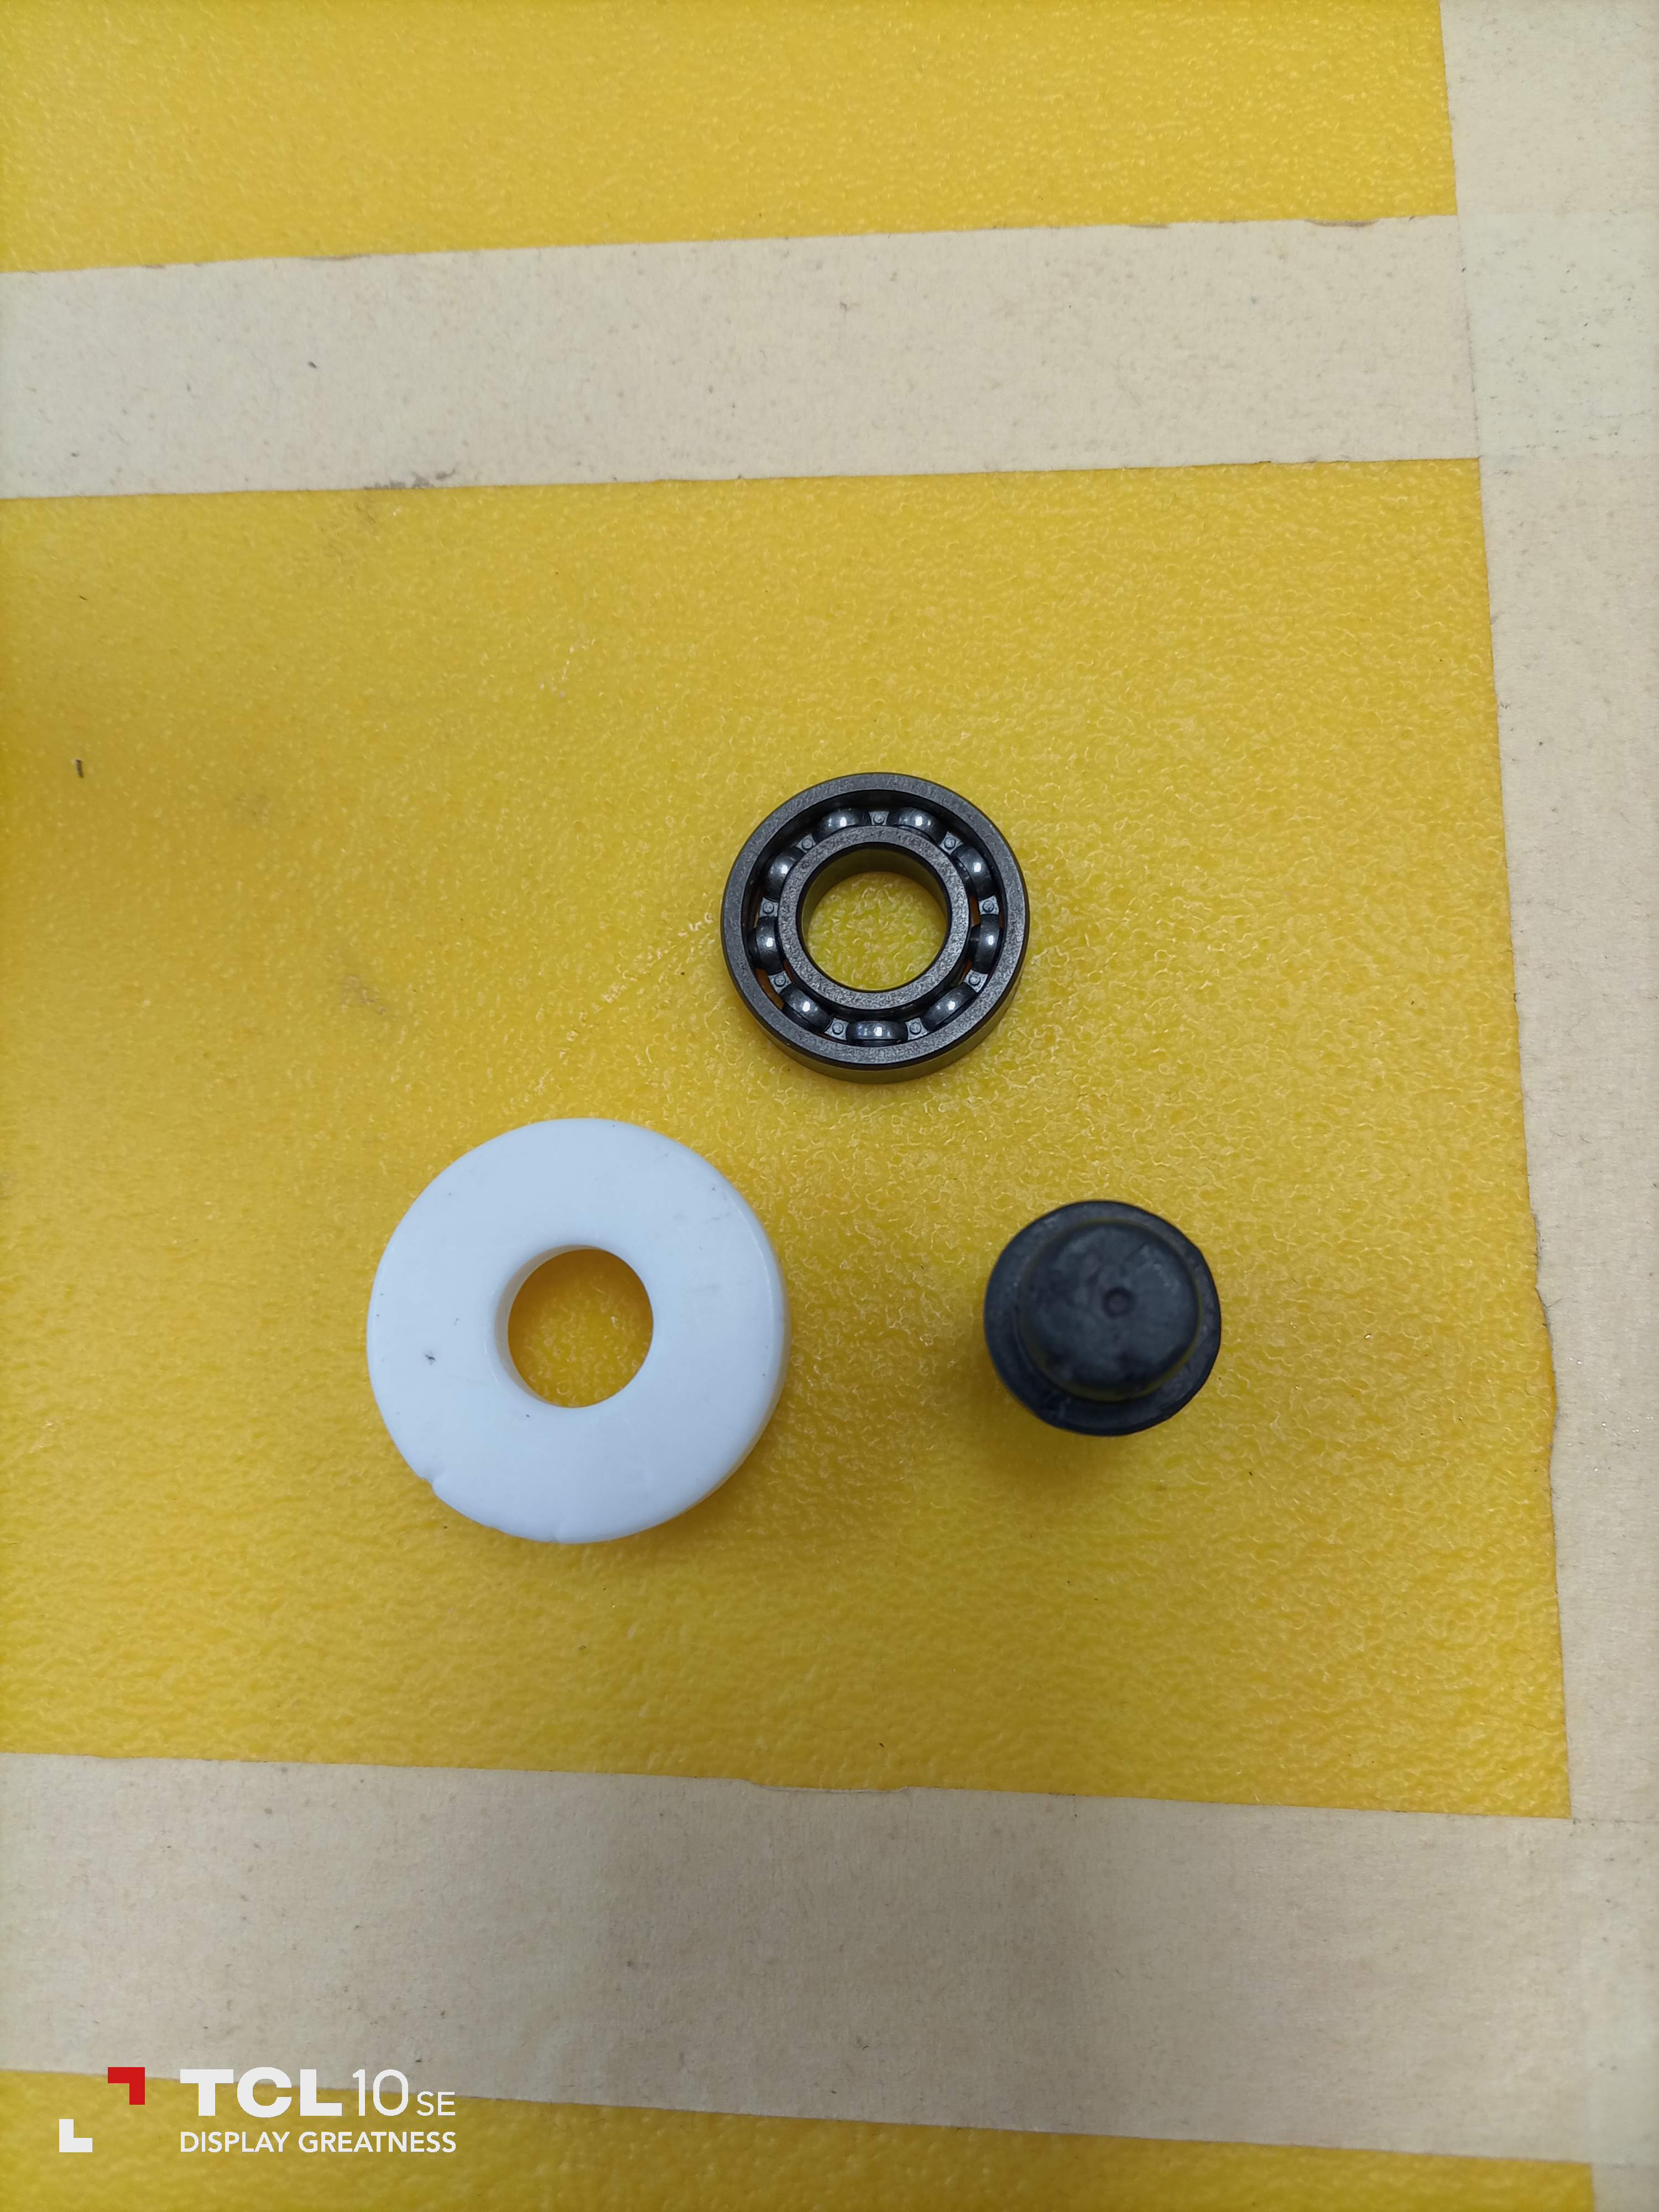Ardatza: (974, 1205, 1236, 1453)
Roda: (720, 749, 1035, 1083)
Tapa: (354, 1106, 796, 1548)
